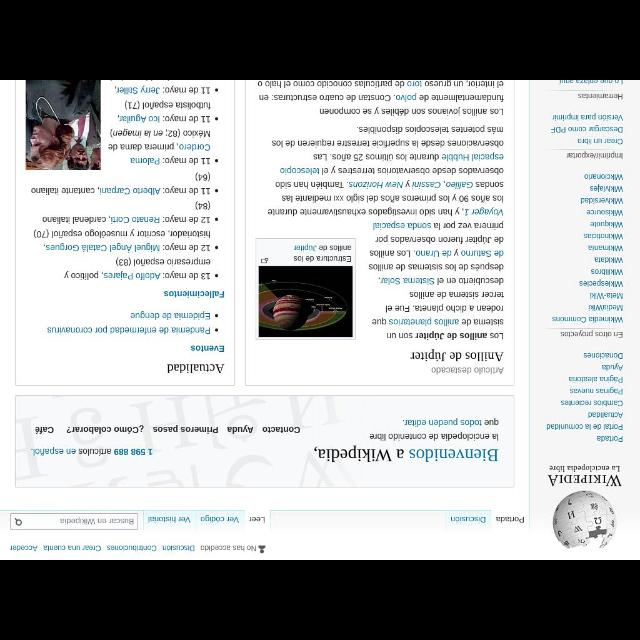backgroundimage: (16, 397, 514, 487)
icon: (258, 544, 266, 554), (14, 518, 22, 526), (260, 257, 268, 263)
image: (258, 266, 352, 336), (26, 81, 100, 169), (548, 465, 622, 549)
input: (11, 514, 138, 528)
multitab: (145, 510, 530, 530)
panel: (530, 81, 640, 449)
text: (256, 82, 504, 216), (368, 220, 504, 340), (33, 228, 211, 254), (31, 172, 211, 195), (107, 127, 211, 165), (42, 200, 210, 223), (314, 444, 498, 462), (64, 258, 210, 280), (369, 417, 499, 441), (116, 100, 212, 124), (47, 326, 211, 334), (410, 348, 502, 362), (114, 84, 212, 96), (293, 243, 351, 263), (31, 448, 153, 456), (130, 310, 210, 320), (60, 516, 134, 526), (431, 366, 504, 376), (153, 424, 220, 434), (550, 125, 624, 134), (551, 112, 623, 121), (66, 426, 144, 434), (560, 328, 622, 338), (546, 423, 622, 431), (565, 150, 623, 160), (168, 363, 225, 373), (552, 316, 622, 324), (568, 374, 622, 384), (163, 290, 224, 298), (43, 544, 101, 552), (200, 544, 256, 552), (561, 399, 623, 406), (569, 387, 623, 395), (200, 514, 240, 524), (106, 544, 156, 552), (579, 279, 623, 287), (578, 92, 622, 100), (147, 516, 190, 524), (190, 344, 224, 354), (582, 232, 624, 240), (583, 352, 623, 360), (262, 426, 300, 434), (580, 198, 622, 205), (587, 244, 623, 252), (584, 173, 624, 180), (577, 138, 623, 144), (588, 304, 622, 312), (589, 292, 623, 300), (590, 268, 624, 276), (590, 220, 624, 228), (589, 184, 623, 192), (586, 210, 624, 217), (227, 424, 253, 434), (9, 544, 37, 552), (596, 435, 624, 443), (594, 256, 622, 264), (450, 516, 486, 522), (587, 412, 623, 418), (162, 545, 194, 551), (496, 516, 524, 522), (34, 426, 54, 434), (602, 363, 622, 371), (248, 515, 266, 523)
